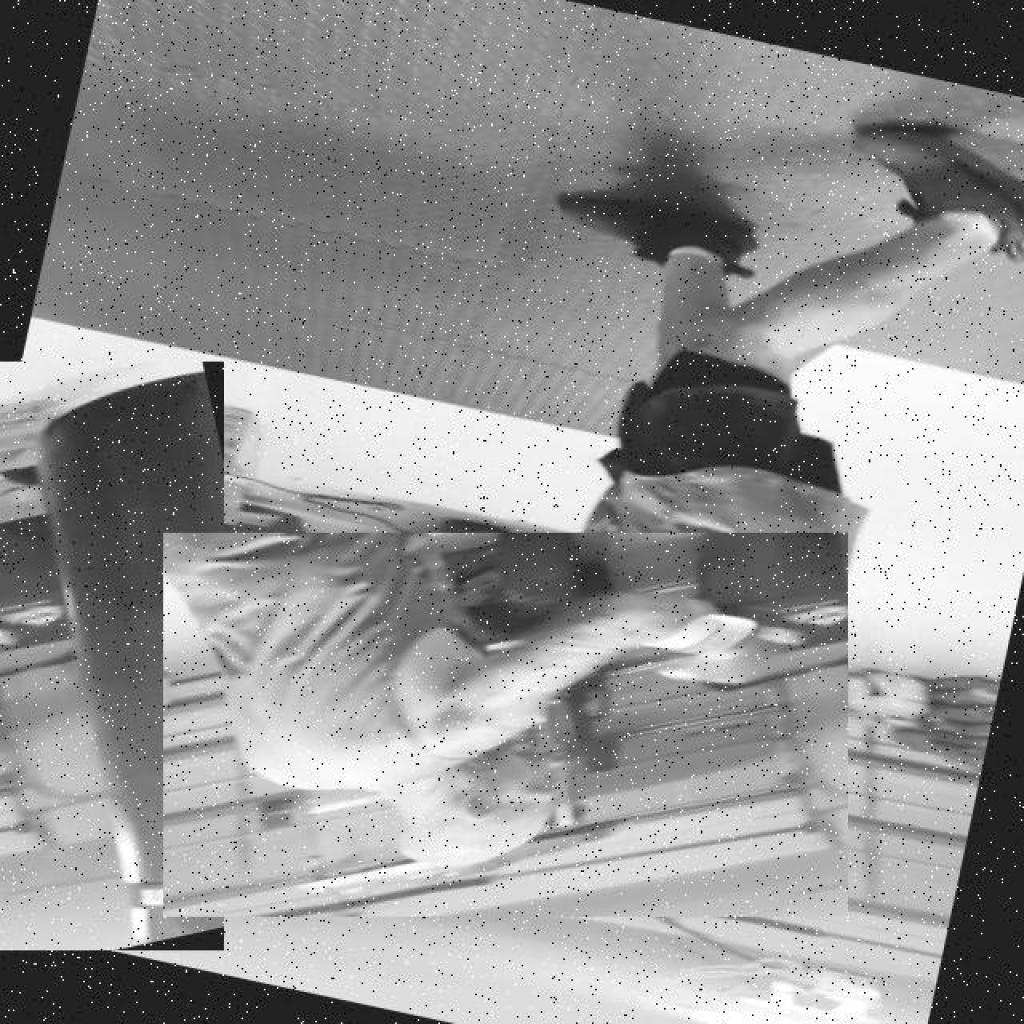bag: (0, 362, 224, 950)
cross: (163, 533, 847, 917)
